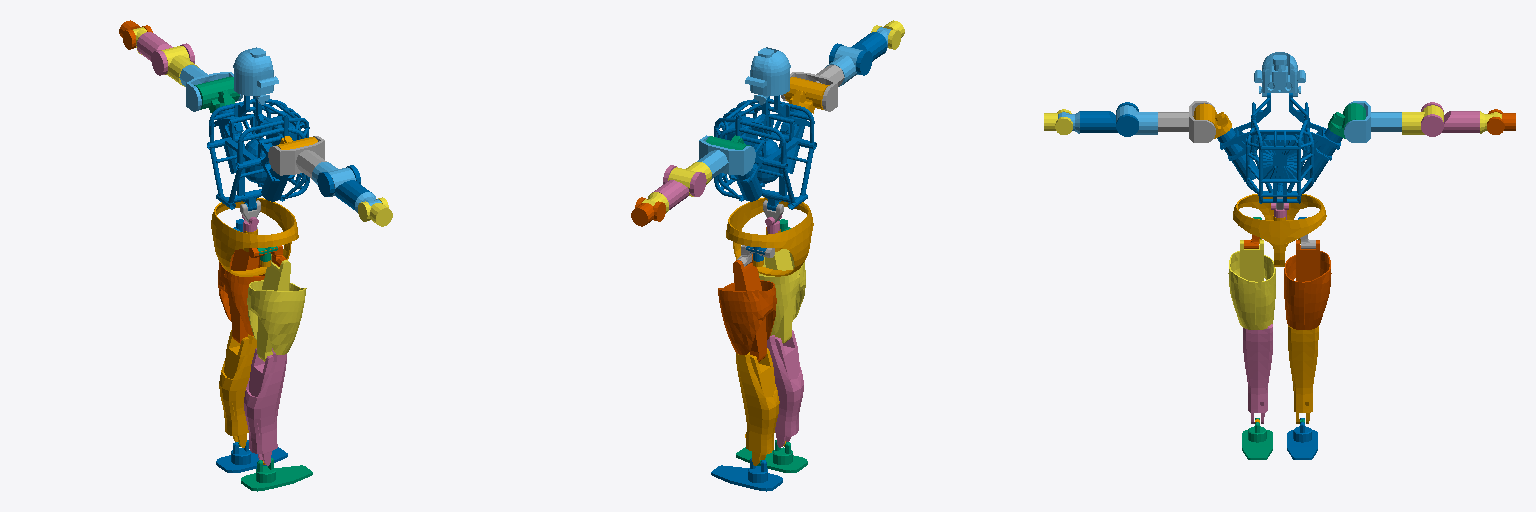
--- Render facts (derived) ---
Views: 3 orthographic renders of the robot side by side, from view 1: azimuth 30°, elevation 25°; view 2: azimuth 150°, elevation 25°; view 3: azimuth 270°, elevation 25°.
Robot: drc_skeleton — 29 links, 28 joints (28 revolute); root link pelvis; default pose: all joints at 0.
Visible links, largest first — view 1: utorso, r_uleg, r_lleg, pelvis, l_lleg, l_uleg, head, r_scap, r_foot, l_clav, l_larm, l_foot (+5 smaller); view 2: utorso, l_uleg, l_lleg, pelvis, r_lleg, r_uleg, head, l_scap, l_foot, r_larm, r_clav, r_scap (+5 smaller); view 3: utorso, l_uleg, r_uleg, pelvis, r_lleg, l_lleg, head, r_scap, l_scap, l_larm, r_larm, r_foot (+7 smaller).
Link boxes in pixels (left/top/right/bottom): utorso: left=207, top=95, right=309, bottom=210; r_uleg: left=247, top=254, right=306, bottom=361; r_lleg: left=244, top=348, right=286, bottom=465; pelvis: left=211, top=198, right=298, bottom=276; l_lleg: left=219, top=330, right=256, bottom=447; l_uleg: left=218, top=249, right=264, bottom=343; head: left=233, top=47, right=278, bottom=104; r_scap: left=268, top=136, right=326, bottom=179; r_foot: left=241, top=458, right=312, bottom=491; l_clav: left=194, top=76, right=239, bottom=112; l_larm: left=136, top=32, right=194, bottom=75; l_foot: left=216, top=440, right=287, bottom=472; utorso: left=714, top=95, right=816, bottom=210; l_uleg: left=718, top=254, right=776, bottom=361; l_lleg: left=736, top=348, right=779, bottom=465; pelvis: left=726, top=197, right=813, bottom=276; r_lleg: left=767, top=330, right=803, bottom=447; r_uleg: left=759, top=249, right=805, bottom=343; head: left=745, top=47, right=790, bottom=104; l_scap: left=697, top=135, right=755, bottom=179; l_foot: left=711, top=458, right=782, bottom=491; r_larm: left=829, top=32, right=886, bottom=75; r_clav: left=784, top=77, right=829, bottom=113; r_scap: left=781, top=65, right=844, bottom=111; utorso: left=1217, top=93, right=1342, bottom=203; l_uleg: left=1284, top=240, right=1331, bottom=329; r_uleg: left=1228, top=240, right=1275, bottom=329; pelvis: left=1233, top=194, right=1326, bottom=266; r_lleg: left=1243, top=324, right=1272, bottom=423; l_lleg: left=1288, top=325, right=1318, bottom=423; head: left=1254, top=52, right=1305, bottom=96; r_scap: left=1158, top=101, right=1215, bottom=142; l_scap: left=1344, top=101, right=1401, bottom=142; l_larm: left=1421, top=102, right=1479, bottom=136; r_larm: left=1080, top=102, right=1138, bottom=136; r_foot: left=1242, top=418, right=1272, bottom=459.
Size in the robot's own frame: 0.3285 by 1.86 by 1.68 metres.
Meshes: 29 distinct files referenced, 29 mesh visuals loaded (29 Collada DAE).

The robot description file, URDF, robot "drc_skeleton":
<robot name="drc_skeleton">
    <link name="pelvis">
        <inertial>
            <mass value="14.2529" />
            <origin xyz="0.0111 0 0.0271" rpy="0 -0 0" />
            <inertia ixx="0.1244" ixy="0.0008" ixz="-0.0007" iyy="0.0958" iyz="-0.0005" izz="0.1167" />
        </inertial>
        <visual>
            <origin xyz="0 0 0" rpy="0 -0 0" />
            <geometry>
                <mesh filename="package://mit_robot/meshes/pelvis.dae" scale="1 1 1" />
            </geometry>
        </visual>
        <collision>
            <origin xyz="0 0 0" rpy="0 -0 0" />
            <geometry>
                <mesh filename="package://mit_robot/meshes/pelvis.stl" scale="1 1 1" />
            </geometry>
        </collision>
    </link>
    <link name="head">
        <inertial>
            <mass value="2.6" />
            <origin xyz="-0.004 0 0.056" rpy="0 -0 0" />
            <inertia ixx="0.009" ixy="0" ixz="0" iyy="0.006" iyz="0" izz="0.007" />
        </inertial>
        <visual>
            <origin xyz="0 0 0" rpy="0 -0 0" />
            <geometry>
                <mesh filename="package://mit_robot/meshes/head.dae" scale="1 1 1" />
            </geometry>
        </visual>
        <collision>
            <origin xyz="0 0 0" rpy="0 -0 0" />
            <geometry>
                <mesh filename="package://mit_robot/meshes/head.stl" scale="1 1 1" />
            </geometry>
        </collision>
    </link>
    <link name="l_clav">
        <inertial>
            <mass value="2.369" />
            <origin xyz="0.014 0.058 0.029" rpy="0 -0 0" />
            <inertia ixx="0.004" ixy="0.001" ixz="0" iyy="0.006" iyz="0" izz="0.007" />
        </inertial>
        <visual>
            <origin xyz="0 0 0" rpy="0 -0 0" />
            <geometry>
                <mesh filename="package://mit_robot/meshes/l_clav.dae" scale="1 1 1" />
            </geometry>
        </visual>
        <collision>
            <origin xyz="0 0 0" rpy="0 -0 0" />
            <geometry>
                <mesh filename="package://mit_robot/meshes/l_clav.stl" scale="1 1 1" />
            </geometry>
        </collision>
    </link>
    <link name="l_farm">
        <inertial>
            <mass value="0.981" />
            <origin xyz="0 0.041 0" rpy="0 -0 0" />
            <inertia ixx="0.003" ixy="0" ixz="0" iyy="0.001" iyz="0" izz="0.003" />
        </inertial>
        <visual>
            <origin xyz="0 0 0" rpy="0 -0 0" />
            <geometry>
                <mesh filename="package://mit_robot/meshes/l_farm.dae" scale="1 1 1" />
            </geometry>
        </visual>
        <collision>
            <origin xyz="0 0 0" rpy="0 -0 0" />
            <geometry>
                <mesh filename="package://mit_robot/meshes/l_farm.stl" scale="1 1 1" />
            </geometry>
        </collision>
    </link>
    <link name="l_foot">
        <inertial>
            <mass value="1.634" />
            <origin xyz="0.027 0 -0.067" rpy="0 -0 0" />
            <inertia ixx="0.002" ixy="0" ixz="0" iyy="0.007" iyz="0" izz="0.008" />
        </inertial>
        <visual>
            <origin xyz="0 0 0" rpy="0 -0 0" />
            <geometry>
                <mesh filename="package://mit_robot/meshes/l_foot.dae" scale="1 1 1" />
            </geometry>
        </visual>
        <collision>
            <origin xyz="0 0 0" rpy="0 -0 0" />
            <geometry>
                <mesh filename="package://mit_robot/meshes/l_foot.stl" scale="1 1 1" />
            </geometry>
        </collision>
    </link>
    <link name="l_hand">
        <inertial>
            <mass value="2.263" />
            <origin xyz="0 0.093 0" rpy="0 -0 0" />
            <inertia ixx="0.01" ixy="0" ixz="0" iyy="0.002" iyz="0" izz="0.01" />
        </inertial>
        <visual>
            <origin xyz="0 0 0" rpy="0 -0 0" />
            <geometry>
                <mesh filename="package://mit_robot/meshes/l_hand.dae" scale="1 1 1" />
            </geometry>
        </visual>
        <collision>
            <origin xyz="0 0 0" rpy="0 -0 0" />
            <geometry>
                <mesh filename="package://mit_robot/meshes/l_hand.stl" scale="1 1 1" />
            </geometry>
        </collision>
    </link>
    <link name="l_larm">
        <inertial>
            <mass value="2.148" />
            <origin xyz="-0.003 0.099 -0.014" rpy="0 -0 0" />
            <inertia ixx="0.005" ixy="0" ixz="0" iyy="0.003" iyz="0" izz="0.006" />
        </inertial>
        <visual>
            <origin xyz="0 0 0" rpy="0 -0 0" />
            <geometry>
                <mesh filename="package://mit_robot/meshes/l_larm.dae" scale="1 1 1" />
            </geometry>
        </visual>
        <collision>
            <origin xyz="0 0 0" rpy="0 -0 0" />
            <geometry>
                <mesh filename="package://mit_robot/meshes/l_larm.stl" scale="1 1 1" />
            </geometry>
        </collision>
    </link>
    <link name="l_lglut">
        <inertial>
            <mass value="0.69" />
            <origin xyz="0.0133341 0.0170484 -0.0312052" rpy="0 -0 0" />
            <inertia ixx="0.000691326" ixy="-2.24344e-05" ixz="2.50508e-06" iyy="0.00126856" iyz="0.000137862" izz="0.00106487" />
        </inertial>
        <visual>
            <origin xyz="0 0 0" rpy="0 -0 0" />
            <geometry>
                <mesh filename="package://mit_robot/meshes/l_lglut.dae" scale="1 1 1" />
            </geometry>
        </visual>
        <collision>
            <origin xyz="0 0 0" rpy="0 -0 0" />
            <geometry>
                <mesh filename="package://mit_robot/meshes/l_lglut.stl" scale="1 1 1" />
            </geometry>
        </collision>
    </link>
    <link name="l_lleg">
        <inertial>
            <mass value="4.367" />
            <origin xyz="0.001 0 -0.187" rpy="0 -0 0" />
            <inertia ixx="0.077" ixy="0" ixz="-0.003" iyy="0.076" iyz="0" izz="0.01" />
        </inertial>
        <visual>
            <origin xyz="0 0 0" rpy="0 -0 0" />
            <geometry>
                <mesh filename="package://mit_robot/meshes/l_lleg.dae" scale="1 1 1" />
            </geometry>
        </visual>
        <collision>
            <origin xyz="0 0 0" rpy="0 -0 0" />
            <geometry>
                <mesh filename="package://mit_robot/meshes/l_lleg.stl" scale="1 1 1" />
            </geometry>
        </collision>
    </link>
    <link name="l_scap">
        <inertial>
            <mass value="2.707" />
            <origin xyz="-0.002 0.108 0" rpy="0 -0 0" />
            <inertia ixx="0.01" ixy="0" ixz="0" iyy="0.005" iyz="0" izz="0.013" />
        </inertial>
        <visual>
            <origin xyz="0 0 0" rpy="0 -0 0" />
            <geometry>
                <mesh filename="package://mit_robot/meshes/l_scap.dae" scale="1 1 1" />
            </geometry>
        </visual>
        <collision>
            <origin xyz="0 0 0" rpy="0 -0 0" />
            <geometry>
                <mesh filename="package://mit_robot/meshes/l_scap.stl" scale="1 1 1" />
            </geometry>
        </collision>
    </link>
    <link name="l_talus">
        <inertial>
            <mass value="0.1" />
            <origin xyz="0 0 0" rpy="0 -0 0" />
            <inertia ixx="1.01674e-05" ixy="0" ixz="0" iyy="8.42775e-06" iyz="0" izz="1.30101e-05" />
        </inertial>
        <visual>
            <origin xyz="0 0 0" rpy="0 -0 0" />
            <geometry>
                <mesh filename="package://mit_robot/meshes/l_talus.dae" scale="1 1 1" />
            </geometry>
        </visual>
        <collision>
            <origin xyz="0 0 0" rpy="0 -0 0" />
            <geometry>
                <mesh filename="package://mit_robot/meshes/l_talus.stl" scale="1 1 1" />
            </geometry>
        </collision>
    </link>
    <link name="l_uarm">
        <inertial>
            <mass value="1.881" />
            <origin xyz="0.007 0.114 0.008" rpy="0 -0 0" />
            <inertia ixx="0.002" ixy="0" ixz="0" iyy="0.003" iyz="0" izz="0.003" />
        </inertial>
        <visual>
            <origin xyz="0 0 0" rpy="0 -0 0" />
            <geometry>
                <mesh filename="package://mit_robot/meshes/l_uarm.dae" scale="1 1 1" />
            </geometry>
        </visual>
        <collision>
            <origin xyz="0 0 0" rpy="0 -0 0" />
            <geometry>
                <mesh filename="package://mit_robot/meshes/l_uarm.stl" scale="1 1 1" />
            </geometry>
        </collision>
    </link>
    <link name="l_uglut">
        <inertial>
            <mass value="0.5166" />
            <origin xyz="0.00529262 -0.00344732 0.00313046" rpy="0 -0 0" />
            <inertia ixx="0.00074276" ixy="-3.79607e-08" ixz="-2.79549e-05" iyy="0.000688179" iyz="-3.2735e-08" izz="0.00041242" />
        </inertial>
        <visual>
            <origin xyz="0 0 0" rpy="0 -0 0" />
            <geometry>
                <mesh filename="package://mit_robot/meshes/l_uglut.dae" scale="1 1 1" />
            </geometry>
        </visual>
        <collision>
            <origin xyz="0 0 0" rpy="0 -0 0" />
            <geometry>
                <mesh filename="package://mit_robot/meshes/l_uglut.stl" scale="1 1 1" />
            </geometry>
        </collision>
    </link>
    <link name="l_uleg">
        <inertial>
            <mass value="7.34" />
            <origin xyz="0 0 -0.21" rpy="0 -0 0" />
            <inertia ixx="0.09" ixy="0" ixz="0" iyy="0.09" iyz="0" izz="0.02" />
        </inertial>
        <visual>
            <origin xyz="0 0 0" rpy="0 -0 0" />
            <geometry>
                <mesh filename="package://mit_robot/meshes/l_uleg.dae" scale="1 1 1" />
            </geometry>
        </visual>
        <collision>
            <origin xyz="0 0 0" rpy="0 -0 0" />
            <geometry>
                <mesh filename="package://mit_robot/meshes/l_uleg.stl" scale="1 1 1" />
            </geometry>
        </collision>
    </link>
    <link name="ltorso">
        <inertial>
            <mass value="1.92" />
            <origin xyz="-0.0112984 -3.15366e-06 0.0746835" rpy="0 -0 0" />
            <inertia ixx="0.0039092" ixy="-5.04491e-08" ixz="-0.000342157" iyy="0.00341694" iyz="4.87119e-07" izz="0.00174492" />
        </inertial>
        <visual>
            <origin xyz="0 0 0" rpy="0 -0 0" />
            <geometry>
                <mesh filename="package://mit_robot/meshes/ltorso.dae" scale="1 1 1" />
            </geometry>
        </visual>
        <collision>
            <origin xyz="0 0 0" rpy="0 -0 0" />
            <geometry>
                <mesh filename="package://mit_robot/meshes/ltorso.stl" scale="1 1 1" />
            </geometry>
        </collision>
    </link>
    <link name="mtorso">
        <inertial>
            <mass value="0.55" />
            <origin xyz="-0.00816266 -0.0131245 0.0305974" rpy="0 -0 0" />
            <inertia ixx="0.000454181" ixy="-6.10764e-05" ixz="3.94009e-05" iyy="0.000483282" iyz="5.27463e-05" izz="0.000444215" />
        </inertial>
        <visual>
            <origin xyz="0 0 0" rpy="0 -0 0" />
            <geometry>
                <mesh filename="package://mit_robot/meshes/mtorso.dae" scale="1 1 1" />
            </geometry>
        </visual>
        <collision>
            <origin xyz="0 0 0" rpy="0 -0 0" />
            <geometry>
                <mesh filename="package://mit_robot/meshes/mtorso.stl" scale="1 1 1" />
            </geometry>
        </collision>
    </link>
    <link name="r_clav">
        <inertial>
            <mass value="2.369" />
            <origin xyz="0.014 -0.058 0.029" rpy="0 -0 0" />
            <inertia ixx="0.004" ixy="-0.001" ixz="0" iyy="0.006" iyz="0" izz="0.007" />
        </inertial>
        <visual>
            <origin xyz="0 0 0" rpy="0 -0 0" />
            <geometry>
                <mesh filename="package://mit_robot/meshes/r_clav.dae" scale="1 1 1" />
            </geometry>
        </visual>
        <collision>
            <origin xyz="0 0 0" rpy="0 -0 0" />
            <geometry>
                <mesh filename="package://mit_robot/meshes/r_clav.stl" scale="1 1 1" />
            </geometry>
        </collision>
    </link>
    <link name="r_farm">
        <inertial>
            <mass value="0.981" />
            <origin xyz="0 -0.041 0" rpy="0 -0 0" />
            <inertia ixx="0.003" ixy="0" ixz="0" iyy="0.001" iyz="0" izz="0.003" />
        </inertial>
        <visual>
            <origin xyz="0 0 0" rpy="0 -0 0" />
            <geometry>
                <mesh filename="package://mit_robot/meshes/r_farm.dae" scale="1 1 1" />
            </geometry>
        </visual>
        <collision>
            <origin xyz="0 0 0" rpy="0 -0 0" />
            <geometry>
                <mesh filename="package://mit_robot/meshes/r_farm.stl" scale="1 1 1" />
            </geometry>
        </collision>
    </link>
    <link name="r_foot">
        <inertial>
            <mass value="1.634" />
            <origin xyz="0.027 0 -0.067" rpy="0 -0 0" />
            <inertia ixx="0.002" ixy="0" ixz="0" iyy="0.007" iyz="0" izz="0.008" />
        </inertial>
        <visual>
            <origin xyz="0 0 0" rpy="0 -0 0" />
            <geometry>
                <mesh filename="package://mit_robot/meshes/r_foot.dae" scale="1 1 1" />
            </geometry>
        </visual>
        <collision>
            <origin xyz="0 0 0" rpy="0 -0 0" />
            <geometry>
                <mesh filename="package://mit_robot/meshes/r_foot.stl" scale="1 1 1" />
            </geometry>
        </collision>
    </link>
    <link name="r_hand">
        <inertial>
            <mass value="2.263" />
            <origin xyz="0 -0.093 0" rpy="0 -0 0" />
            <inertia ixx="0.01" ixy="0" ixz="0" iyy="0.002" iyz="0" izz="0.01" />
        </inertial>
        <visual>
            <origin xyz="0 0 0" rpy="0 -0 0" />
            <geometry>
                <mesh filename="package://mit_robot/meshes/r_hand.dae" scale="1 1 1" />
            </geometry>
        </visual>
        <collision>
            <origin xyz="0 0 0" rpy="0 -0 0" />
            <geometry>
                <mesh filename="package://mit_robot/meshes/r_hand.stl" scale="1 1 1" />
            </geometry>
        </collision>
    </link>
    <link name="r_larm">
        <inertial>
            <mass value="2.148" />
            <origin xyz="-0.003 -0.099 -0.014" rpy="0 -0 0" />
            <inertia ixx="0.005" ixy="0" ixz="0" iyy="0.003" iyz="0" izz="0.006" />
        </inertial>
        <visual>
            <origin xyz="0 0 0" rpy="0 -0 0" />
            <geometry>
                <mesh filename="package://mit_robot/meshes/r_larm.dae" scale="1 1 1" />
            </geometry>
        </visual>
        <collision>
            <origin xyz="0 0 0" rpy="0 -0 0" />
            <geometry>
                <mesh filename="package://mit_robot/meshes/r_larm.stl" scale="1 1 1" />
            </geometry>
        </collision>
    </link>
    <link name="r_lglut">
        <inertial>
            <mass value="0.69" />
            <origin xyz="0.0133341 -0.0170484 -0.0312052" rpy="0 -0 0" />
            <inertia ixx="0.000691326" ixy="2.24344e-05" ixz="2.50508e-06" iyy="0.00126856" iyz="-0.000137862" izz="0.00106487" />
        </inertial>
        <visual>
            <origin xyz="0 0 0" rpy="0 -0 0" />
            <geometry>
                <mesh filename="package://mit_robot/meshes/r_lglut.dae" scale="1 1 1" />
            </geometry>
        </visual>
        <collision>
            <origin xyz="0 0 0" rpy="0 -0 0" />
            <geometry>
                <mesh filename="package://mit_robot/meshes/r_lglut.stl" scale="1 1 1" />
            </geometry>
        </collision>
    </link>
    <link name="r_lleg">
        <inertial>
            <mass value="4.367" />
            <origin xyz="0.001 0 -0.187" rpy="0 -0 0" />
            <inertia ixx="0.077" ixy="-0" ixz="-0.003" iyy="0.076" iyz="-0" izz="0.01" />
        </inertial>
        <visual>
            <origin xyz="0 0 0" rpy="0 -0 0" />
            <geometry>
                <mesh filename="package://mit_robot/meshes/r_lleg.dae" scale="1 1 1" />
            </geometry>
        </visual>
        <collision>
            <origin xyz="0 0 0" rpy="0 -0 0" />
            <geometry>
                <mesh filename="package://mit_robot/meshes/r_lleg.stl" scale="1 1 1" />
            </geometry>
        </collision>
    </link>
    <link name="r_scap">
        <inertial>
            <mass value="2.707" />
            <origin xyz="-0.002 -0.108 0" rpy="0 -0 0" />
            <inertia ixx="0.01" ixy="0" ixz="0" iyy="0.005" iyz="0" izz="0.013" />
        </inertial>
        <visual>
            <origin xyz="0 0 0" rpy="0 -0 0" />
            <geometry>
                <mesh filename="package://mit_robot/meshes/r_scap.dae" scale="1 1 1" />
            </geometry>
        </visual>
        <collision>
            <origin xyz="0 0 0" rpy="0 -0 0" />
            <geometry>
                <mesh filename="package://mit_robot/meshes/r_scap.stl" scale="1 1 1" />
            </geometry>
        </collision>
    </link>
    <link name="r_talus">
        <inertial>
            <mass value="0.1" />
            <origin xyz="0 0 0" rpy="0 -0 0" />
            <inertia ixx="1.01674e-05" ixy="0" ixz="0" iyy="8.42775e-06" iyz="0" izz="1.30101e-05" />
        </inertial>
        <visual>
            <origin xyz="0 0 0" rpy="0 -0 0" />
            <geometry>
                <mesh filename="package://mit_robot/meshes/r_talus.dae" scale="1 1 1" />
            </geometry>
        </visual>
        <collision>
            <origin xyz="0 0 0" rpy="0 -0 0" />
            <geometry>
                <mesh filename="package://mit_robot/meshes/r_talus.stl" scale="1 1 1" />
            </geometry>
        </collision>
    </link>
    <link name="r_uarm">
        <inertial>
            <mass value="1.881" />
            <origin xyz="0.007 -0.114 0.008" rpy="0 -0 0" />
            <inertia ixx="0.002" ixy="0" ixz="0" iyy="0.003" iyz="0" izz="0.003" />
        </inertial>
        <visual>
            <origin xyz="0 0 0" rpy="0 -0 0" />
            <geometry>
                <mesh filename="package://mit_robot/meshes/r_uarm.dae" scale="1 1 1" />
            </geometry>
        </visual>
        <collision>
            <origin xyz="0 0 0" rpy="0 -0 0" />
            <geometry>
                <mesh filename="package://mit_robot/meshes/r_uarm.stl" scale="1 1 1" />
            </geometry>
        </collision>
    </link>
    <link name="r_uglut">
        <inertial>
            <mass value="0.5166" />
            <origin xyz="0.00529262 0.00344732 0.00313046" rpy="0 -0 0" />
            <inertia ixx="0.00074276" ixy="3.79607e-08" ixz="-2.79549e-05" iyy="0.000688179" iyz="3.2735e-08" izz="0.00041242" />
        </inertial>
        <visual>
            <origin xyz="0 0 0" rpy="0 -0 0" />
            <geometry>
                <mesh filename="package://mit_robot/meshes/r_uglut.dae" scale="1 1 1" />
            </geometry>
        </visual>
        <collision>
            <origin xyz="0 0 0" rpy="0 -0 0" />
            <geometry>
                <mesh filename="package://mit_robot/meshes/r_uglut.stl" scale="1 1 1" />
            </geometry>
        </collision>
    </link>
    <link name="r_uleg">
        <inertial>
            <mass value="7.34" />
            <origin xyz="0 0 -0.21" rpy="0 -0 0" />
            <inertia ixx="0.09" ixy="0" ixz="0" iyy="0.09" iyz="0" izz="0.02" />
        </inertial>
        <visual>
            <origin xyz="0 0 0" rpy="0 -0 0" />
            <geometry>
                <mesh filename="package://mit_robot/meshes/r_uleg.dae" scale="1 1 1" />
            </geometry>
        </visual>
        <collision>
            <origin xyz="0 0 0" rpy="0 -0 0" />
            <geometry>
                <mesh filename="package://mit_robot/meshes/r_uleg.stl" scale="1 1 1" />
            </geometry>
        </collision>
    </link>
    <link name="utorso">
        <inertial>
            <mass value="18.484" />
            <origin xyz="0.02 -0.001 0.211" rpy="0 -0 0" />
            <inertia ixx="0.395" ixy="0" ixz="0.083" iyy="1.089" iyz="-0.003" izz="0.327" />
        </inertial>
        <visual>
            <origin xyz="0 0 0" rpy="0 -0 0" />
            <geometry>
                <mesh filename="package://mit_robot/meshes/utorso.dae" scale="1 1 1" />
            </geometry>
        </visual>
        <collision>
            <origin xyz="0 0 0" rpy="0 -0 0" />
            <geometry>
                <mesh filename="package://mit_robot/meshes/utorso.stl" scale="1 1 1" />
            </geometry>
        </collision>
    </link>
    <joint name="back_lbz" type="revolute">
        <origin xyz="-0.0125 0 0" rpy="0 -0 0" />
        <axis xyz="0 0 1" />
        <parent link="pelvis" />
        <child link="ltorso" />
        <dynamics damping="0.1" friction="0" />
        <limit effort="124.016" velocity="12" lower="-0.610865" upper="0.610865" />
        <safety_controller k_position="100" k_velocity="100" soft_lower_limit="-10.6109" soft_upper_limit="10.6109" />
    </joint>
    <joint name="back_mby" type="revolute">
        <origin xyz="0 0 0.09" rpy="0 -0 0" />
        <axis xyz="0 1 0" />
        <parent link="ltorso" />
        <child link="mtorso" />
        <dynamics damping="0.1" friction="0" />
        <limit effort="206.843" velocity="12" lower="-1.2" upper="1.28" />
        <safety_controller k_position="100" k_velocity="100" soft_lower_limit="-11.2" soft_upper_limit="11.28" />
    </joint>
    <joint name="back_ubx" type="revolute">
        <origin xyz="0 0 0.05" rpy="0 -0 0" />
        <axis xyz="1 0 0" />
        <parent link="mtorso" />
        <child link="utorso" />
        <dynamics damping="0.1" friction="0" />
        <limit effort="94.91" velocity="12" lower="-0.790809" upper="0.790809" />
        <safety_controller k_position="100" k_velocity="100" soft_lower_limit="-10.7908" soft_upper_limit="10.7908" />
    </joint>
    <joint name="l_arm_elx" type="revolute">
        <origin xyz="0 0.121 0.013" rpy="0 -0 0" />
        <axis xyz="1 0 0" />
        <parent link="l_uarm" />
        <child link="l_larm" />
        <dynamics damping="0.1" friction="0" />
        <limit effort="114" velocity="12" lower="0" upper="2.35619" />
        <safety_controller k_position="100" k_velocity="100" soft_lower_limit="-10" soft_upper_limit="12.3562" />
    </joint>
    <joint name="l_arm_ely" type="revolute">
        <origin xyz="0 0.185 0" rpy="0 -0 0" />
        <axis xyz="0 1 0" />
        <parent link="l_scap" />
        <child link="l_uarm" />
        <dynamics damping="0.1" friction="0" />
        <limit effort="114" velocity="12" lower="0" upper="3.14159" />
        <safety_controller k_position="100" k_velocity="100" soft_lower_limit="-10" soft_upper_limit="13.1416" />
    </joint>
    <joint name="l_arm_mwx" type="revolute">
        <origin xyz="0 0.058 0" rpy="0 -0 0" />
        <axis xyz="1 0 0" />
        <parent link="l_farm" />
        <child link="l_hand" />
        <dynamics damping="0.1" friction="0" />
        <limit effort="60" velocity="12" lower="-0.436" upper="1.571" />
        <safety_controller k_position="100" k_velocity="100" soft_lower_limit="-10.436" soft_upper_limit="11.571" />
    </joint>
    <joint name="l_arm_shx" type="revolute">
        <origin xyz="0 0.075 0.036" rpy="0 -0 0" />
        <axis xyz="1 0 0" />
        <parent link="l_clav" />
        <child link="l_scap" />
        <dynamics damping="0.1" friction="0" />
        <limit effort="170" velocity="12" lower="-1.39626" upper="1.74533" />
        <safety_controller k_position="100" k_velocity="100" soft_lower_limit="-11.3963" soft_upper_limit="11.7453" />
    </joint>
    <joint name="l_arm_usy" type="revolute">
        <origin xyz="0.024 0.221 0.289" rpy="0 -0 0" />
        <axis xyz="0 0.5 0.866025" />
        <parent link="utorso" />
        <child link="l_clav" />
        <dynamics damping="0.1" friction="0" />
        <limit effort="212" velocity="12" lower="-1.9635" upper="1.9635" />
        <safety_controller k_position="100" k_velocity="100" soft_lower_limit="-11.9635" soft_upper_limit="11.9635" />
    </joint>
    <joint name="l_arm_uwy" type="revolute">
        <origin xyz="0 0.188 -0.013" rpy="0 -0 0" />
        <axis xyz="0 1 0" />
        <parent link="l_larm" />
        <child link="l_farm" />
        <dynamics damping="0.1" friction="0" />
        <limit effort="114" velocity="12" lower="-1.571" upper="1.571" />
        <safety_controller k_position="100" k_velocity="100" soft_lower_limit="-11.571" soft_upper_limit="11.571" />
    </joint>
    <joint name="l_leg_kny" type="revolute">
        <origin xyz="-0.05 0 -0.374" rpy="0 -0 0" />
        <axis xyz="0 1 0" />
        <parent link="l_uleg" />
        <child link="l_lleg" />
        <dynamics damping="0.1" friction="0" />
        <limit effort="220" velocity="12" lower="0" upper="2.45" />
        <safety_controller k_position="100" k_velocity="100" soft_lower_limit="-10" soft_upper_limit="12.45" />
    </joint>
    <joint name="l_leg_lax" type="revolute">
        <origin xyz="0 0 0" rpy="0 -0 0" />
        <axis xyz="1 0 0" />
        <parent link="l_talus" />
        <child link="l_foot" />
        <dynamics damping="0.1" friction="0" />
        <limit effort="90" velocity="12" lower="-0.436" upper="0.436" />
        <safety_controller k_position="100" k_velocity="100" soft_lower_limit="-10.436" soft_upper_limit="10.436" />
    </joint>
    <joint name="l_leg_lhy" type="revolute">
        <origin xyz="0.05 0 -0.05" rpy="0 -0 0" />
        <axis xyz="0 1 0" />
        <parent link="l_lglut" />
        <child link="l_uleg" />
        <dynamics damping="0.1" friction="0" />
        <limit effort="260" velocity="12" lower="-1.75" upper="0.524" />
        <safety_controller k_position="100" k_velocity="100" soft_lower_limit="-11.75" soft_upper_limit="10.524" />
    </joint>
    <joint name="l_leg_mhx" type="revolute">
        <origin xyz="0 0 0" rpy="0 -0 0" />
        <axis xyz="1 0 0" />
        <parent link="l_uglut" />
        <child link="l_lglut" />
        <dynamics damping="0.1" friction="0" />
        <limit effort="180" velocity="12" lower="-0.47" upper="0.495" />
        <safety_controller k_position="100" k_velocity="100" soft_lower_limit="-10.47" soft_upper_limit="10.495" />
    </joint>
    <joint name="l_leg_uay" type="revolute">
        <origin xyz="0 0 -0.422" rpy="0 -0 0" />
        <axis xyz="0 1 0" />
        <parent link="l_lleg" />
        <child link="l_talus" />
        <dynamics damping="0.1" friction="0" />
        <limit effort="220" velocity="12" lower="-0.698" upper="0.698" />
        <safety_controller k_position="100" k_velocity="100" soft_lower_limit="-10.698" soft_upper_limit="10.698" />
    </joint>
    <joint name="l_leg_uhz" type="revolute">
        <origin xyz="0 0.089 0" rpy="0 -0 0" />
        <axis xyz="0 0 1" />
        <parent link="pelvis" />
        <child link="l_uglut" />
        <dynamics damping="0.1" friction="0" />
        <limit effort="110" velocity="12" lower="-0.32" upper="1.14" />
        <safety_controller k_position="100" k_velocity="100" soft_lower_limit="-10.32" soft_upper_limit="11.14" />
    </joint>
    <joint name="neck_ay" type="revolute">
        <origin xyz="0.011 0 0.44" rpy="0 -0 0" />
        <axis xyz="0 1 0" />
        <parent link="utorso" />
        <child link="head" />
        <dynamics damping="0.1" friction="0" />
        <limit effort="5" velocity="12" lower="-0.785398" upper="0.785398" />
        <safety_controller k_position="100" k_velocity="100" soft_lower_limit="-10.7854" soft_upper_limit="10.7854" />
    </joint>
    <joint name="r_arm_elx" type="revolute">
        <origin xyz="0 -0.121 0.013" rpy="0 -0 0" />
        <axis xyz="1 0 0" />
        <parent link="r_uarm" />
        <child link="r_larm" />
        <dynamics damping="0.1" friction="0" />
        <limit effort="114" velocity="12" lower="-2.35619" upper="0" />
        <safety_controller k_position="100" k_velocity="100" soft_lower_limit="-12.3562" soft_upper_limit="10" />
    </joint>
    <joint name="r_arm_ely" type="revolute">
        <origin xyz="0 -0.185 0" rpy="0 -0 0" />
        <axis xyz="0 1 0" />
        <parent link="r_scap" />
        <child link="r_uarm" />
        <dynamics damping="0.1" friction="0" />
        <limit effort="114" velocity="12" lower="0" upper="3.14159" />
        <safety_controller k_position="100" k_velocity="100" soft_lower_limit="-10" soft_upper_limit="13.1416" />
    </joint>
    <joint name="r_arm_mwx" type="revolute">
        <origin xyz="0 -0.058 0" rpy="0 -0 0" />
        <axis xyz="1 0 0" />
        <parent link="r_farm" />
        <child link="r_hand" />
        <dynamics damping="0.1" friction="0" />
        <limit effort="60" velocity="12" lower="-1.571" upper="0.436" />
        <safety_controller k_position="100" k_velocity="100" soft_lower_limit="-11.571" soft_upper_limit="10.436" />
    </joint>
    <joint name="r_arm_shx" type="revolute">
        <origin xyz="0 -0.075 0.036" rpy="0 -0 0" />
        <axis xyz="1 0 0" />
        <parent link="r_clav" />
        <child link="r_scap" />
        <dynamics damping="0.1" friction="0" />
        <limit effort="170" velocity="12" lower="-1.74533" upper="1.39626" />
        <safety_controller k_position="100" k_velocity="100" soft_lower_limit="-11.7453" soft_upper_limit="11.3963" />
    </joint>
    <joint name="r_arm_usy" type="revolute">
        <origin xyz="0.024 -0.221 0.289" rpy="0 -0 0" />
        <axis xyz="0 -0.5 0.866025" />
        <parent link="utorso" />
        <child link="r_clav" />
        <dynamics damping="0.1" friction="0" />
        <limit effort="212" velocity="12" lower="-1.9635" upper="1.9635" />
        <safety_controller k_position="100" k_velocity="100" soft_lower_limit="-11.9635" soft_upper_limit="11.9635" />
    </joint>
    <joint name="r_arm_uwy" type="revolute">
        <origin xyz="0 -0.188 -0.013" rpy="0 -0 0" />
        <axis xyz="0 1 0" />
        <parent link="r_larm" />
        <child link="r_farm" />
        <dynamics damping="0.1" friction="0" />
        <limit effort="114" velocity="12" lower="-1.571" upper="1.571" />
        <safety_controller k_position="100" k_velocity="100" soft_lower_limit="-11.571" soft_upper_limit="11.571" />
    </joint>
    <joint name="r_leg_kny" type="revolute">
        <origin xyz="-0.05 0 -0.374" rpy="0 -0 0" />
        <axis xyz="0 1 0" />
        <parent link="r_uleg" />
        <child link="r_lleg" />
        <dynamics damping="0.1" friction="0" />
        <limit effort="220" velocity="12" lower="0" upper="2.45" />
        <safety_controller k_position="100" k_velocity="100" soft_lower_limit="-10" soft_upper_limit="12.45" />
    </joint>
    <joint name="r_leg_lax" type="revolute">
        <origin xyz="0 0 0" rpy="0 -0 0" />
        <axis xyz="1 0 0" />
        <parent link="r_talus" />
        <child link="r_foot" />
        <dynamics damping="0.1" friction="0" />
        <limit effort="90" velocity="12" lower="-0.436" upper="0.436" />
        <safety_controller k_position="100" k_velocity="100" soft_lower_limit="-10.436" soft_upper_limit="10.436" />
    </joint>
    <joint name="r_leg_lhy" type="revolute">
        <origin xyz="0.05 0 -0.05" rpy="0 -0 0" />
        <axis xyz="0 1 0" />
        <parent link="r_lglut" />
        <child link="r_uleg" />
        <dynamics damping="0.1" friction="0" />
        <limit effort="260" velocity="12" lower="-1.745" upper="0.524" />
        <safety_controller k_position="100" k_velocity="100" soft_lower_limit="-11.745" soft_upper_limit="10.524" />
    </joint>
    <joint name="r_leg_mhx" type="revolute">
        <origin xyz="0 0 0" rpy="0 -0 0" />
        <axis xyz="1 0 0" />
        <parent link="r_uglut" />
        <child link="r_lglut" />
        <dynamics damping="0.1" friction="0" />
        <limit effort="180" velocity="12" lower="-0.495" upper="0.47" />
        <safety_controller k_position="100" k_velocity="100" soft_lower_limit="-10.495" soft_upper_limit="10.47" />
    </joint>
    <joint name="r_leg_uay" type="revolute">
        <origin xyz="0 0 -0.422" rpy="0 -0 0" />
        <axis xyz="0 1 0" />
        <parent link="r_lleg" />
        <child link="r_talus" />
        <dynamics damping="0.1" friction="0" />
        <limit effort="220" velocity="12" lower="-0.698" upper="0.698" />
        <safety_controller k_position="100" k_velocity="100" soft_lower_limit="-10.698" soft_upper_limit="10.698" />
    </joint>
    <joint name="r_leg_uhz" type="revolute">
        <origin xyz="0 -0.089 0" rpy="0 -0 0" />
        <axis xyz="0 0 1" />
        <parent link="pelvis" />
        <child link="r_uglut" />
        <dynamics damping="0.1" friction="0" />
        <limit effort="260" velocity="12" lower="-1.14" upper="0.32" />
        <safety_controller k_position="100" k_velocity="100" soft_lower_limit="-11.14" soft_upper_limit="10.32" />
    </joint>
</robot>
